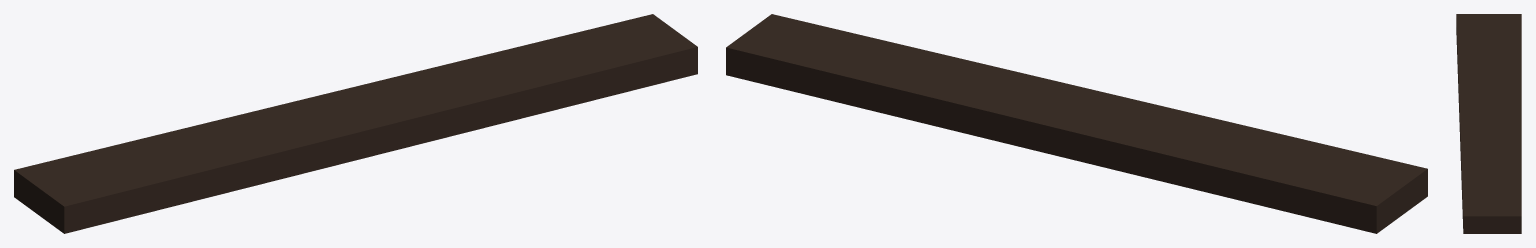
The model's file is Plank_Long_2.fbx.
3 views of the same model, side by side, from view 1: azimuth 30°, elevation 25°; view 2: azimuth 150°, elevation 25°; view 3: azimuth 270°, elevation 25° (orthographic). The views are drawn at different scales.
Parts seen in each view (by area): view 1: Plank_Long_2; view 2: Plank_Long_2; view 3: Plank_Long_2.
Boxes of the visible parts, <box> form: Plank_Long_2: <box>14,14,697,233</box>; Plank_Long_2: <box>726,14,1427,233</box>; Plank_Long_2: <box>1456,14,1521,233</box>.
Size of the model in its own units: 306 by 12.48 by 41.68.
